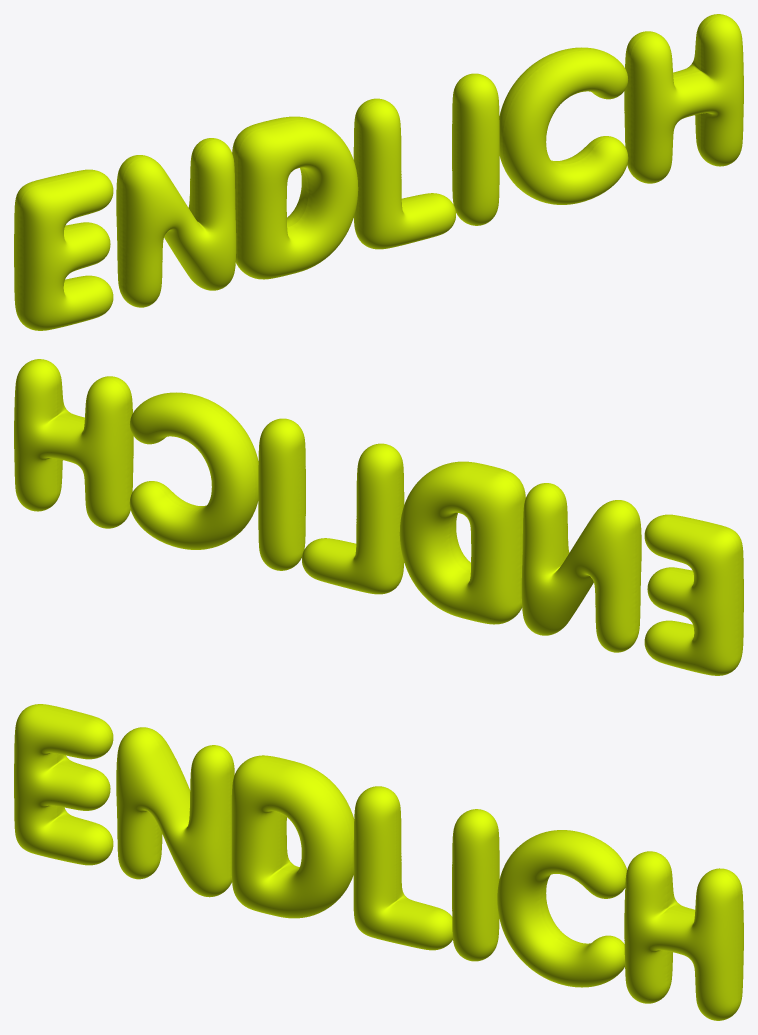
Rendered from endlich.glb.
The picture shows the model from 3 angles, top to bottom: view 1: azimuth 30°, elevation 25°; view 2: azimuth 150°, elevation 25°; view 3: azimuth 330°, elevation 25°; orthographic projection.
Parts seen in each view (by area): view 1: WillBePrinted; view 2: WillBePrinted; view 3: WillBePrinted.
Part boxes in pixels (left/top/right/bottom): WillBePrinted: left=14, top=14, right=743, bottom=330; WillBePrinted: left=14, top=359, right=743, bottom=675; WillBePrinted: left=14, top=704, right=743, bottom=1020.
Bounding box in the file's own units: 3.66 × 0.7204 × 0.293.
